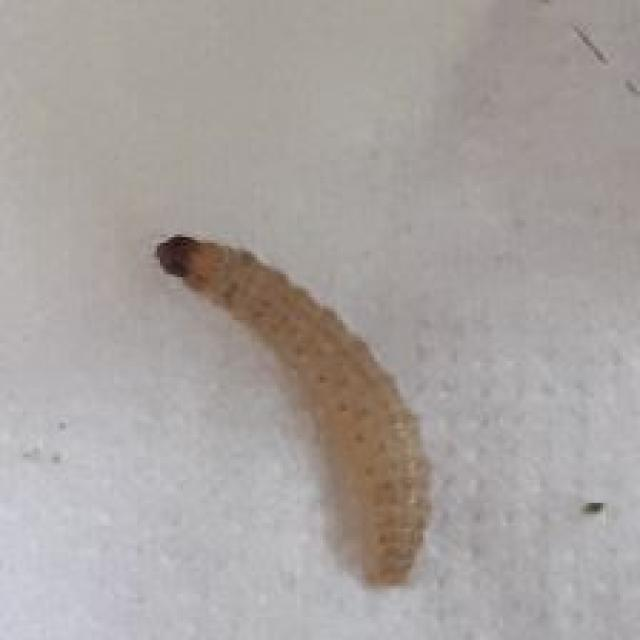white mucus: (155, 214, 477, 608)
